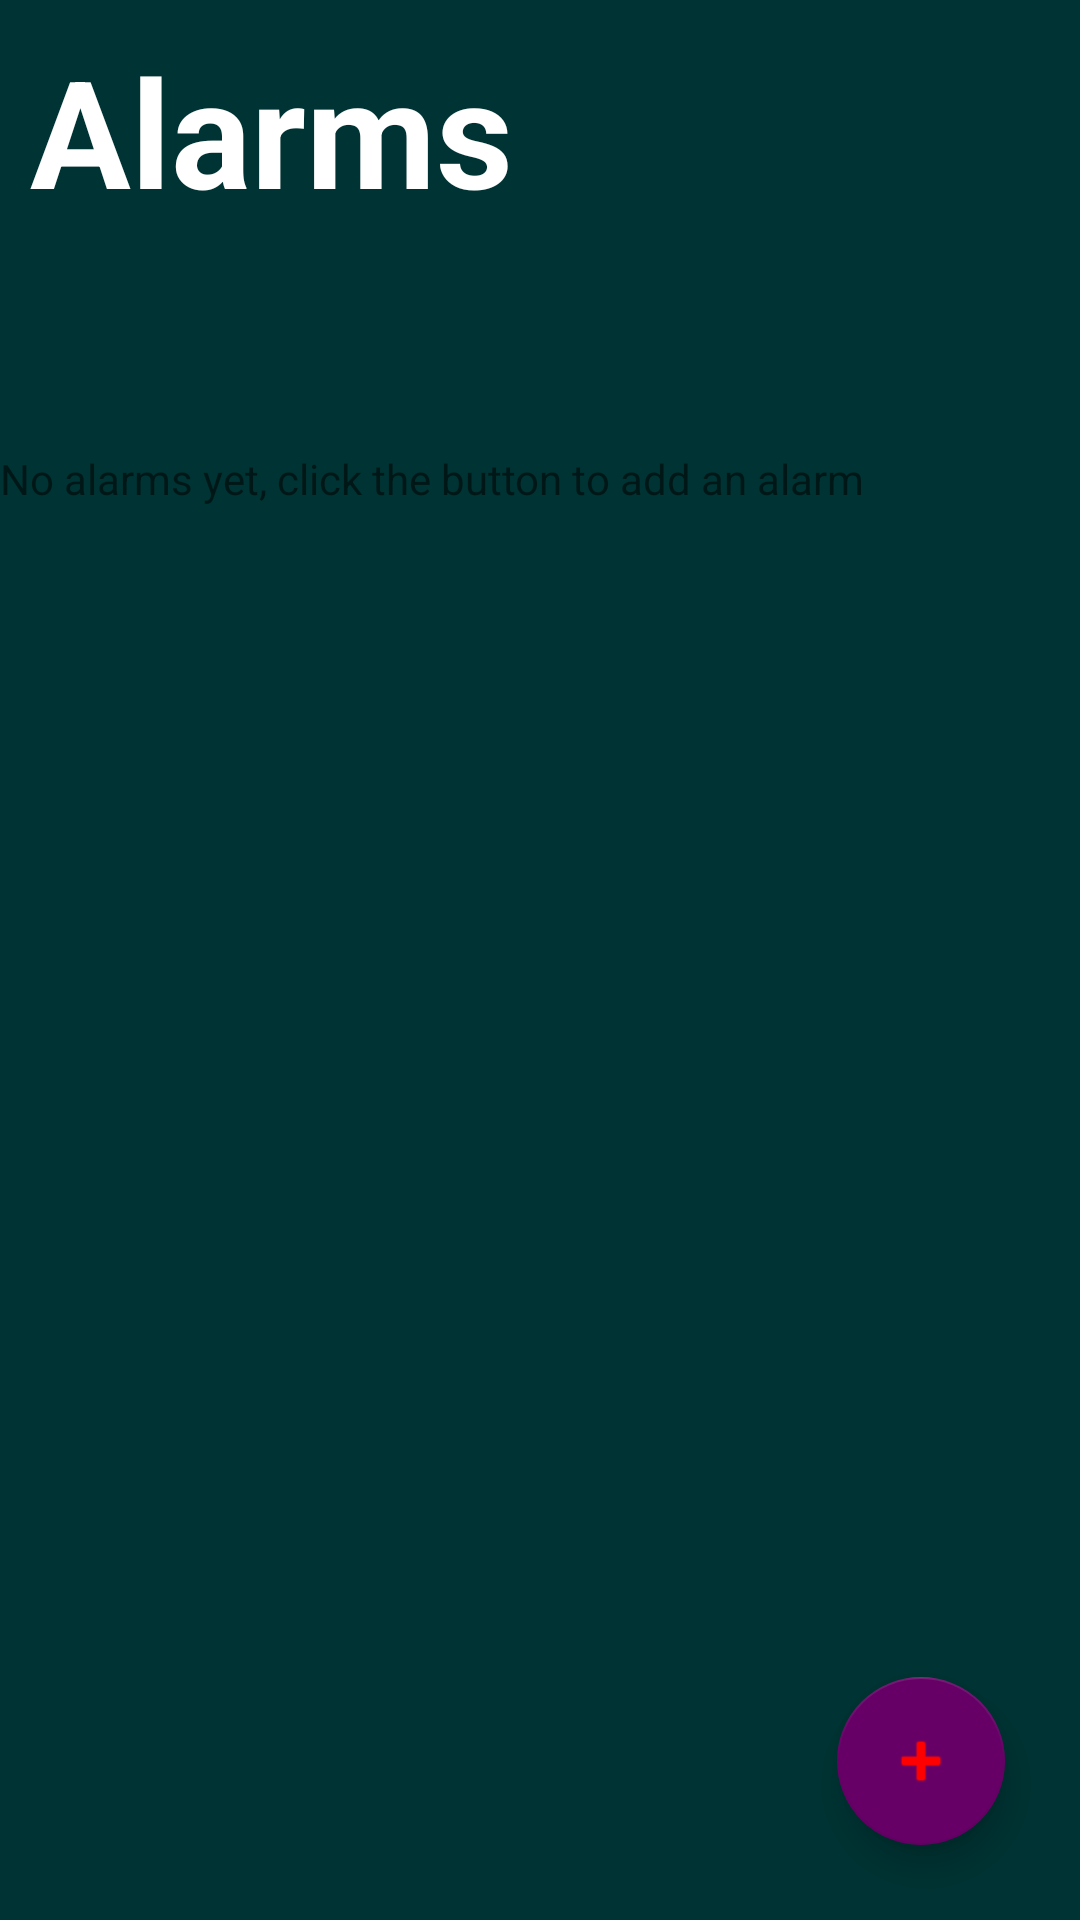

Icons on this 1080px×1920px Android screen, each with its box as (x1, y1, x2, y2):
add: (837, 1677, 1005, 1845)
